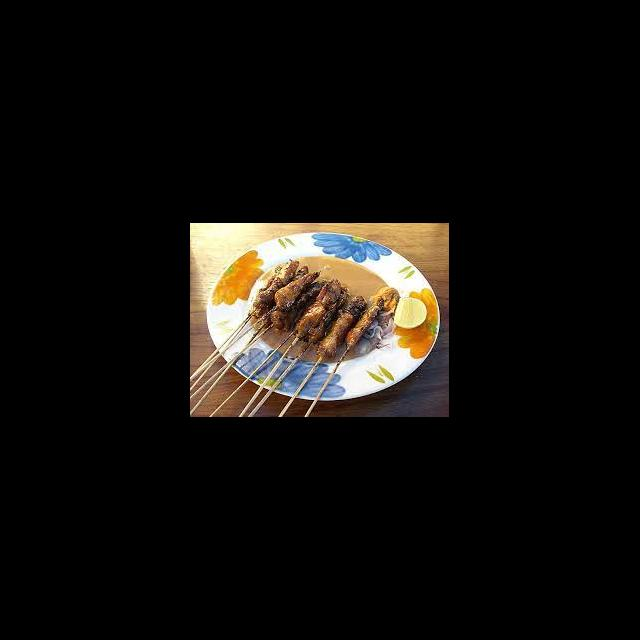food_waste: (265, 270, 383, 341)
